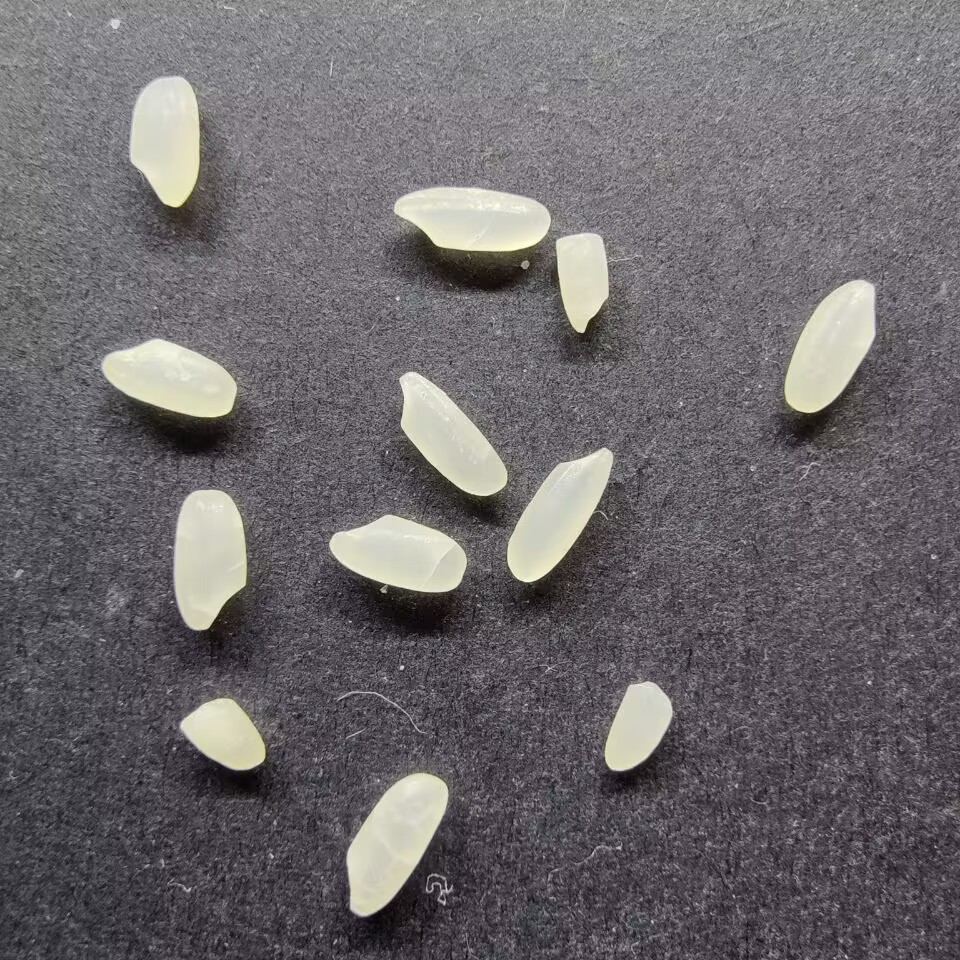broken: (599, 680, 676, 773), (177, 695, 267, 772), (551, 230, 612, 335)
rice: (345, 770, 451, 917), (505, 445, 615, 586), (395, 370, 509, 497), (783, 276, 882, 417), (328, 511, 467, 596), (170, 487, 250, 634), (97, 337, 240, 418), (388, 186, 552, 253), (126, 74, 201, 209)
